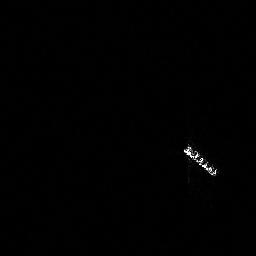ship: (179, 141, 220, 179)
